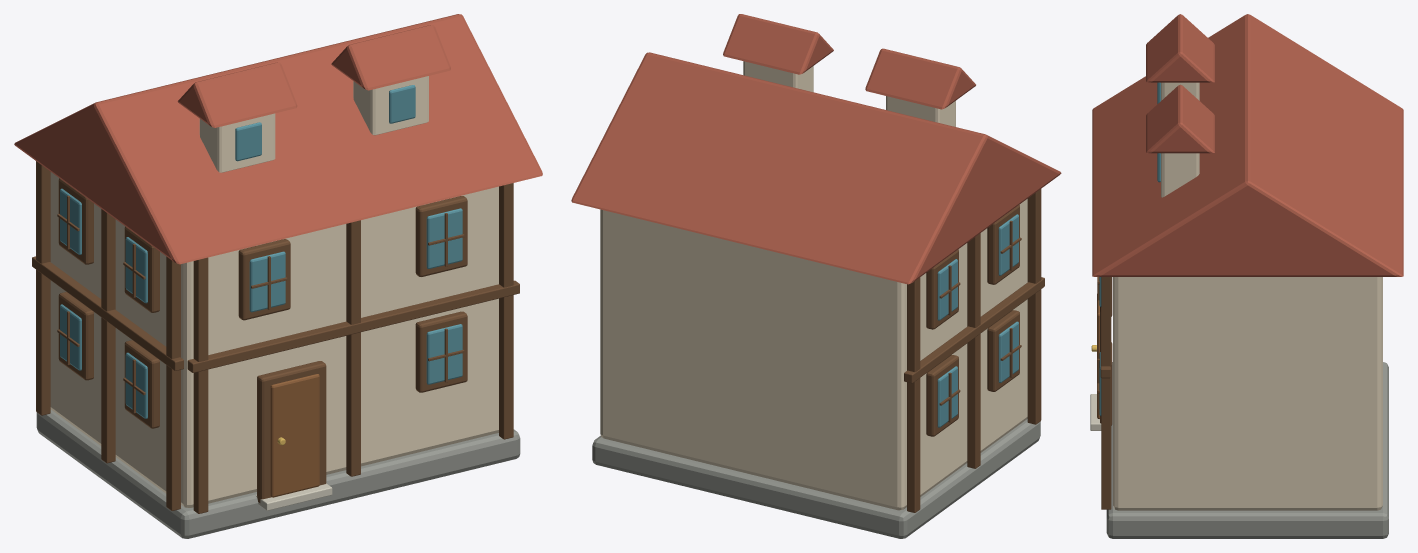
Rendered from temperate-townhouse-0.glb.
The picture shows the model from 3 angles, left to right: view 1: azimuth 30°, elevation 25°; view 2: azimuth 150°, elevation 25°; view 3: azimuth 270°, elevation 25°; orthographic projection. The views are drawn at different scales.
Parts seen in each view (by area): view 1: Clay tiles, Warm lime, Dark beams, Foundation stone, Blue glass, Door oak, Cut limestone; view 2: Warm lime, Clay tiles, Dark beams, Foundation stone, Blue glass; view 3: Clay tiles, Warm lime, Foundation stone, Dark beams, Blue glass.
Boxes of the visible parts, x1,y1,x2,y2 form: Clay tiles: (14,14,542,264); Warm lime: (50,76,498,507); Dark beams: (32,161,519,513); Foundation stone: (36,409,520,538); Blue glass: (60,85,462,418); Door oak: (270,374,319,497); Cut limestone: (255,483,332,510); Warm lime: (600,61,1027,510); Clay tiles: (571,14,1061,284); Dark beams: (904,189,1044,512); Foundation stone: (592,419,1040,538); Blue glass: (937,214,1018,427); Clay tiles: (1092,14,1403,276); Warm lime: (1113,82,1382,510); Foundation stone: (1106,362,1388,538); Dark beams: (1097,277,1112,509); Blue glass: (1099,82,1160,415).
Size of the model in its own units: 3.94 by 4.28 by 3.07.
